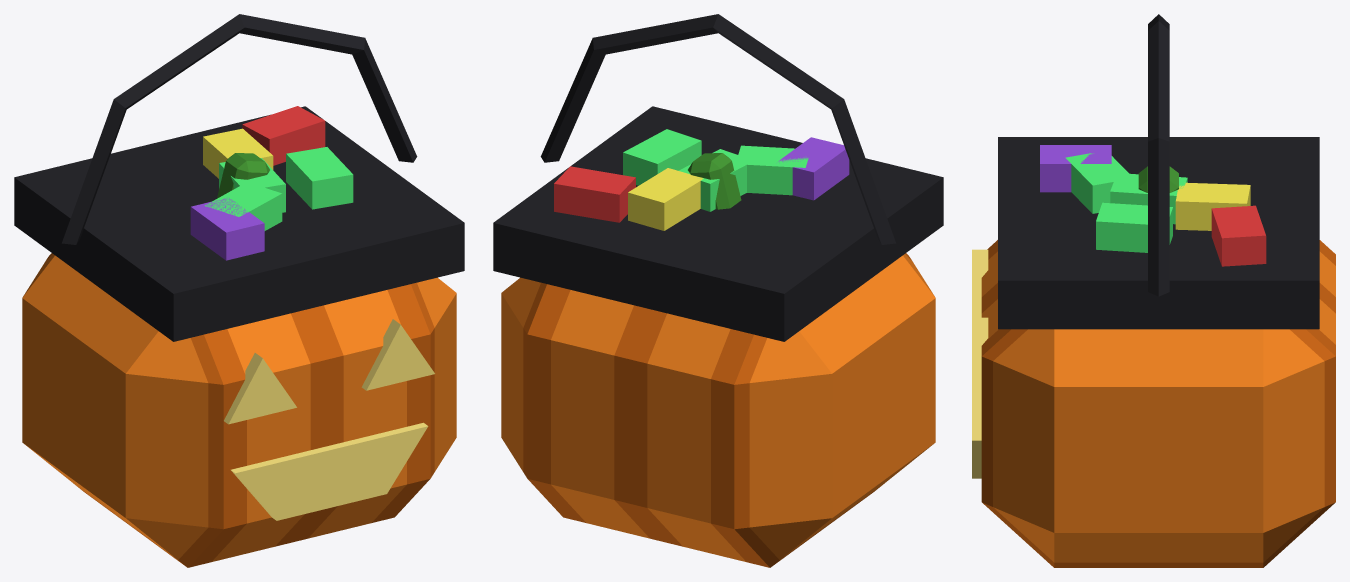
File: PumpkinPail.fbx
The picture shows the model from 3 angles, left to right: view 1: azimuth 30°, elevation 25°; view 2: azimuth 150°, elevation 25°; view 3: azimuth 270°, elevation 25°; orthographic projection.
Parts seen in each view (by area): view 1: PumpkinPail; view 2: PumpkinPail; view 3: PumpkinPail.
Part boxes in pixels (x1,y1,x2,y2): PumpkinPail: [14, 14, 464, 567]; PumpkinPail: [493, 14, 943, 567]; PumpkinPail: [972, 14, 1335, 567].
Bounding box in the file's own units: 2.32 × 3.06 × 2.03.
Materials: 1 (1 with a texture image).
